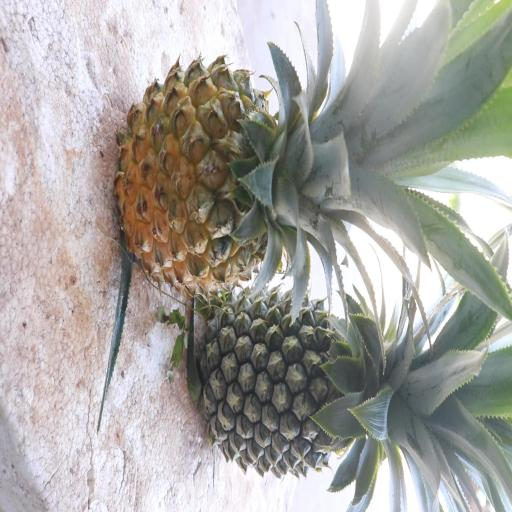Pineapple - v8 v1: (114, 61, 384, 292)
